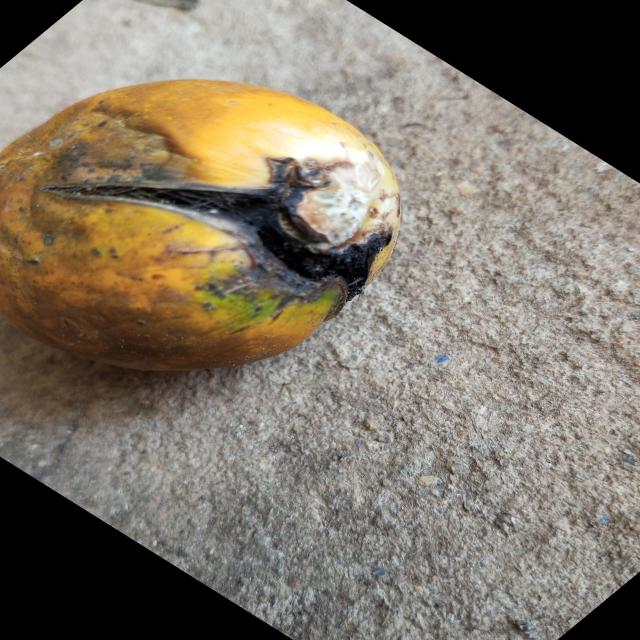damaged: (0, 78, 401, 375)
